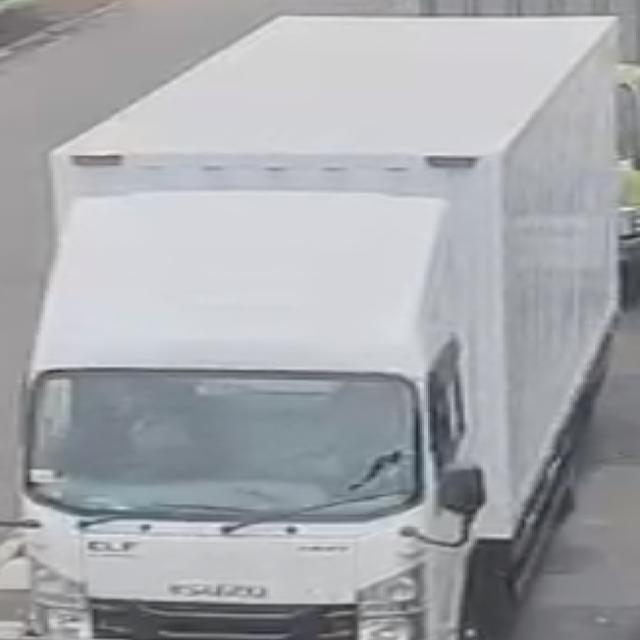truck: (14, 4, 624, 640)
